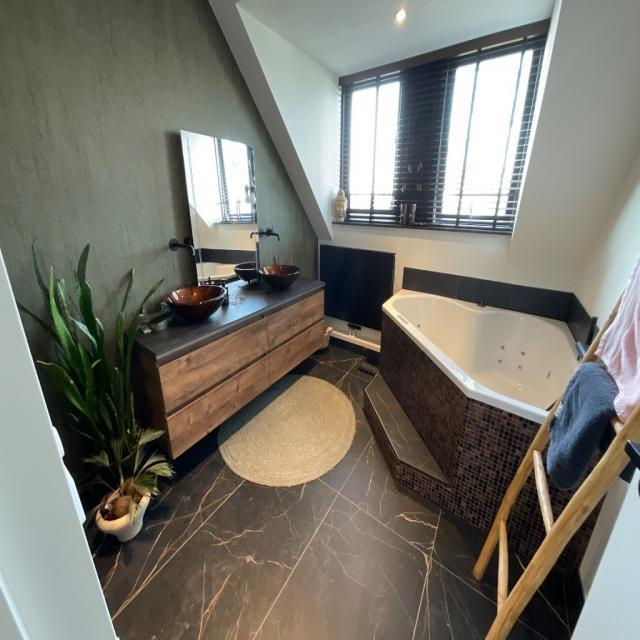bath: (383, 286, 600, 429)
wastafel: (126, 288, 325, 458), (161, 227, 301, 325)
